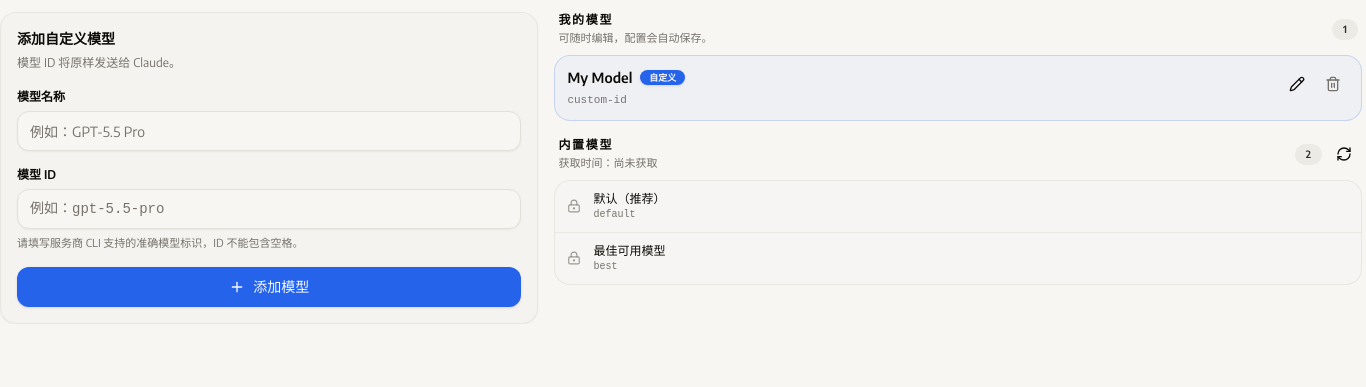
Test case: Chinese validation, editing, and deletion controls use localized text
This screenshot has width=1366, height=387.
Step 1. Type "Test" into the field labelled "模型名称" → (269, 131), box [17, 111, 521, 151]
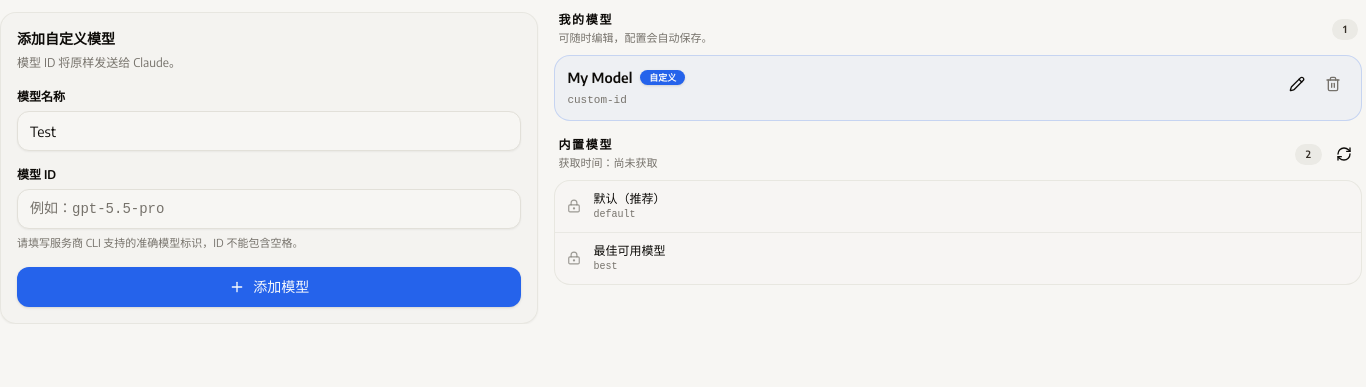
Step 2. Type "bad id" into the field labelled "模型 ID" → (269, 209), box [17, 189, 521, 229]
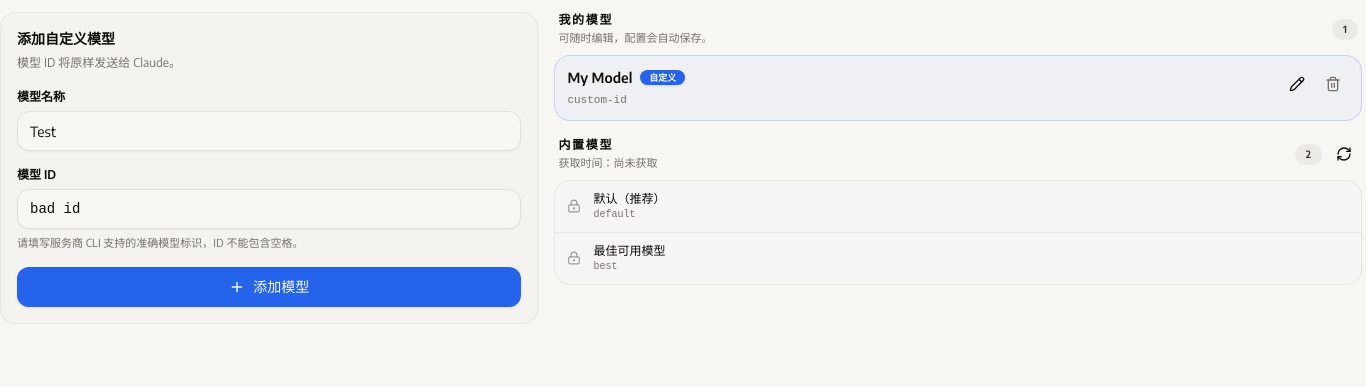
Step 3. Click the button "添加模型" → click(269, 287), box [17, 267, 521, 307]
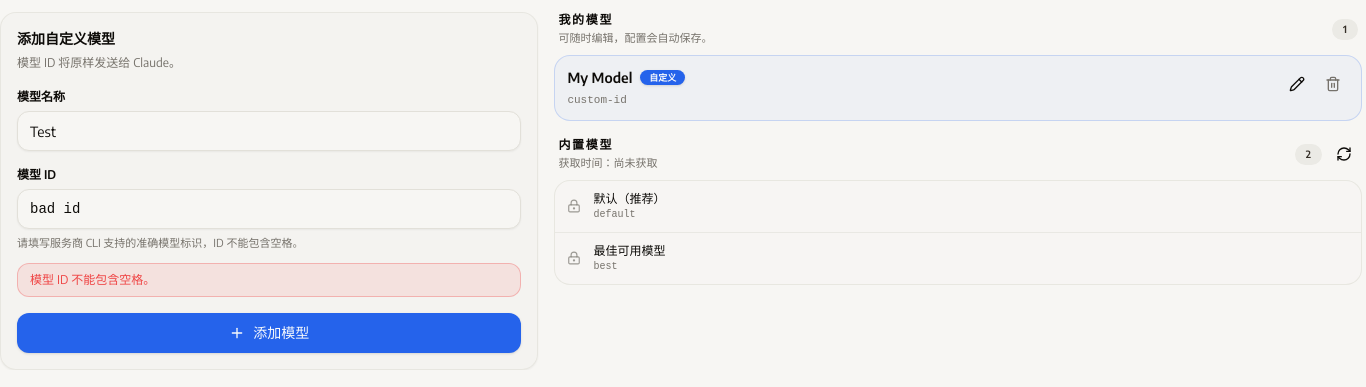
Check: the message reads "模型 ID 不能包含空格。", box [30, 272, 155, 287]
Step 4. Click the button named "编辑 My Model" → click(1297, 84), box [1281, 68, 1313, 100]
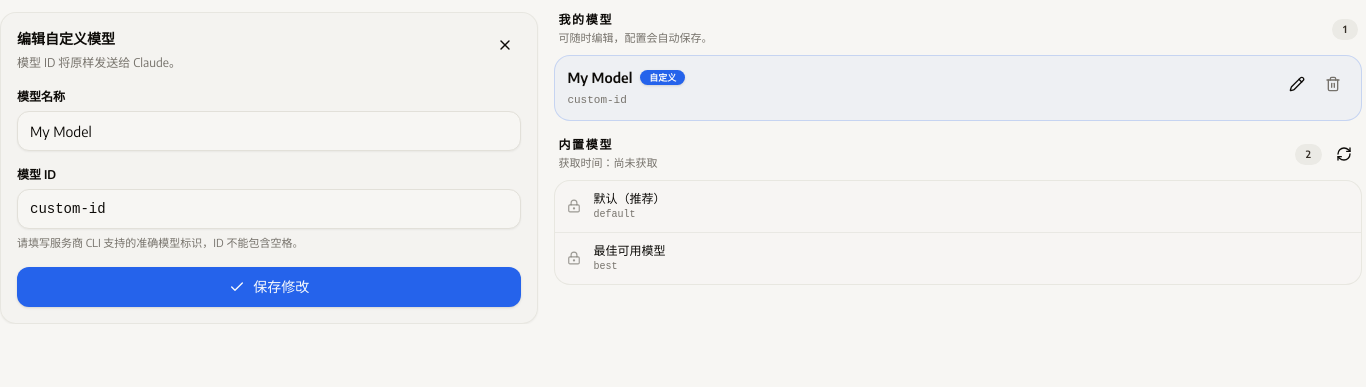
Check: the text "编辑自定义模型" is shown, box [17, 30, 115, 47]
Check: the button "保存修改" is shown, box [17, 267, 521, 307]
Step 5. Click the button named "删除 My Model" → click(1333, 84), box [1317, 68, 1349, 100]
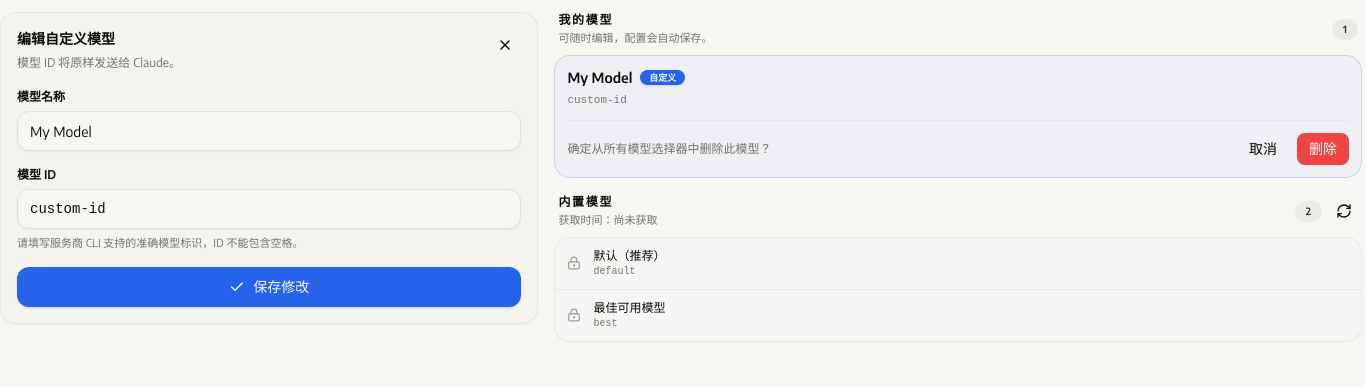
Check: the text "确定从所有模型选择器中删除此模型？" is shown, box [567, 141, 771, 157]
Check: the button "取消" is shown, box [1237, 133, 1289, 165]
Step 6. Click the button "删除" → click(1323, 149), box [1297, 133, 1349, 165]
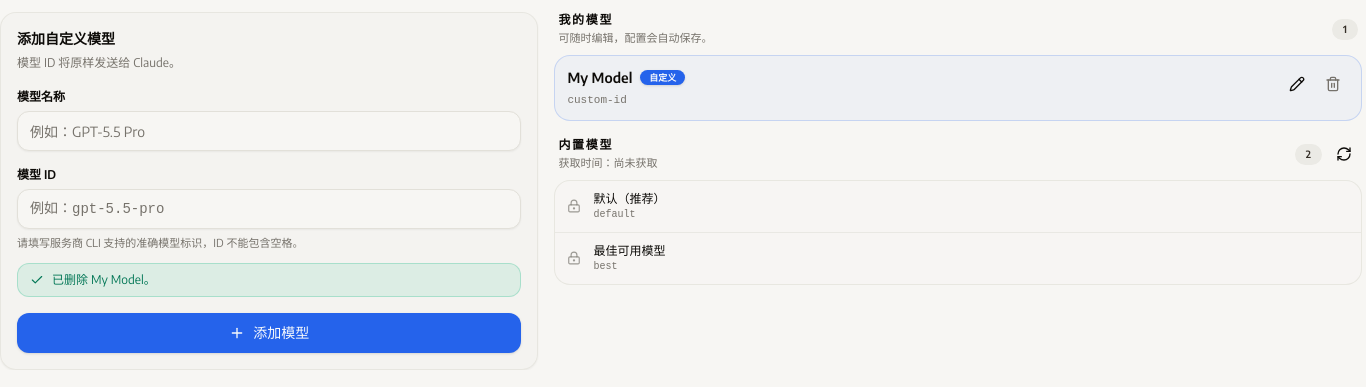
Check: the text "已删除 My Model。" is shown, box [17, 263, 521, 297]
